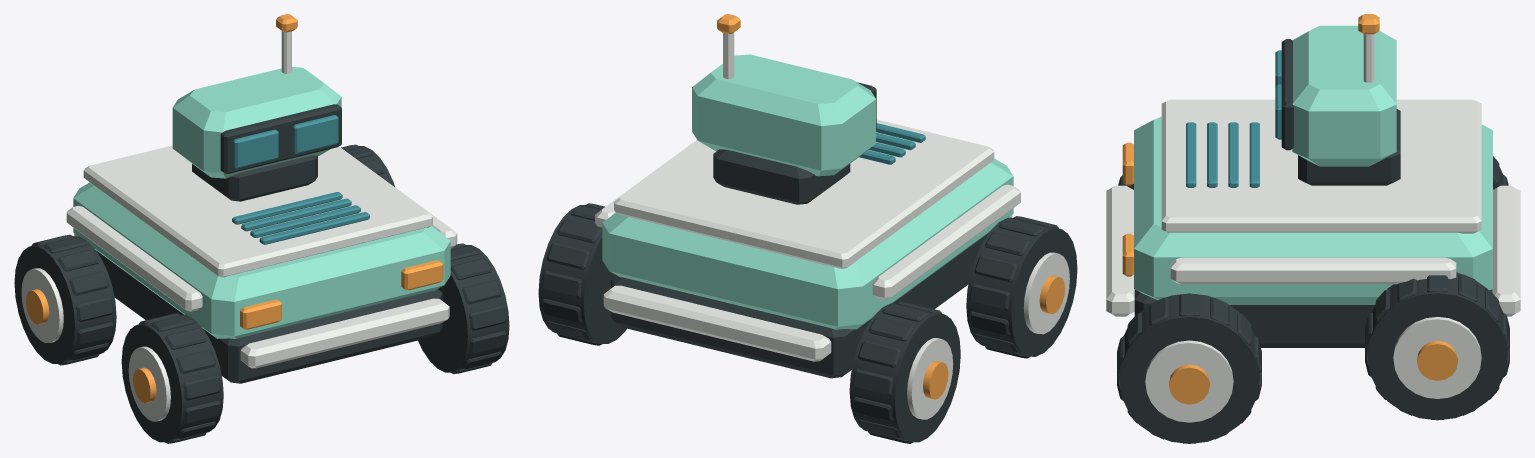
The model's file is rover-raised.glb.
3 views of the same model, side by side, from view 1: azimuth 30°, elevation 25°; view 2: azimuth 150°, elevation 25°; view 3: azimuth 270°, elevation 25° (orthographic). The views are drawn at different scales.
Visible parts, largest first — view 1: Ivory deck, Mint body, Tire (×3), Sensor housing, Tread (×12), Lower chassis, Front bumper, Side rail (×2), Rim (×2), Cab base, Sensor face, Marker light (×2) (+7 smaller); view 2: Ivory deck, Mint body, Tire (×3), Sensor housing, Tread (×12), Lower chassis, Rear bumper, Side rail, Rim (×2), Cab base, Hub (×2), Antenna; view 3: Ivory deck, Mint body, Tire (×2), Sensor housing, Rim (×2), Side rail, Lower chassis, Rear bumper, Front bumper, Hub (×2), Cab base, Tread (×4) (+8 smaller).
Part boxes in pixels (box(x1,y1,x2,y2)): Ivory deck: box(83, 145, 432, 277); Mint body: box(73, 182, 450, 338); Tire (×3): box(14, 236, 509, 442); Sensor housing: box(172, 67, 341, 178); Tread (×12): box(57, 249, 506, 423); Lower chassis: box(96, 250, 442, 383); Front bumper: box(240, 298, 449, 368); Side rail (×2): box(66, 146, 457, 311); Rim (×2): box(21, 268, 170, 421); Cab base: box(192, 155, 317, 201); Sensor face: box(220, 104, 341, 173); Marker light (×2): box(240, 260, 443, 329); Ivory deck: box(614, 119, 994, 268); Mint body: box(602, 158, 1013, 329); Tire (×3): box(538, 205, 1077, 442); Sensor housing: box(692, 54, 875, 176); Tread (×12): box(541, 219, 1030, 421); Lower chassis: box(611, 233, 988, 378); Rear bumper: box(603, 285, 831, 361); Side rail: box(872, 184, 1020, 299); Rim (×2): box(907, 252, 1069, 419); Cab base: box(713, 149, 850, 204); Hub (×2): box(923, 275, 1065, 399); Antenna: box(723, 32, 734, 79); Ivory deck: box(1161, 99, 1481, 233); Mint body: box(1134, 116, 1492, 304); Tire (×2): box(1119, 272, 1507, 443); Sensor housing: box(1292, 25, 1396, 166); Rim (×2): box(1145, 317, 1481, 422); Side rail: box(1170, 257, 1456, 284); Lower chassis: box(1134, 289, 1492, 347); Rear bumper: box(1492, 185, 1520, 316); Front bumper: box(1106, 185, 1134, 316); Hub (×2): box(1169, 340, 1457, 404); Cab base: box(1298, 109, 1400, 185); Tread (×4): box(1149, 274, 1477, 325).
Size of the model in its own units: 2.85 by 2.47 by 2.54.
